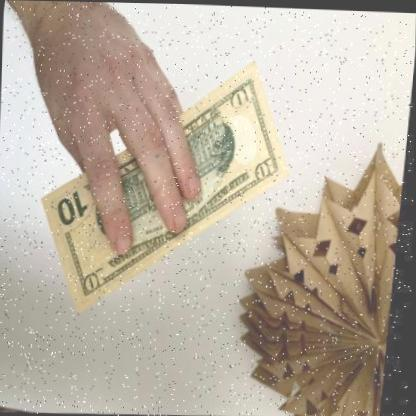dollar_back: (42, 62, 291, 317)
